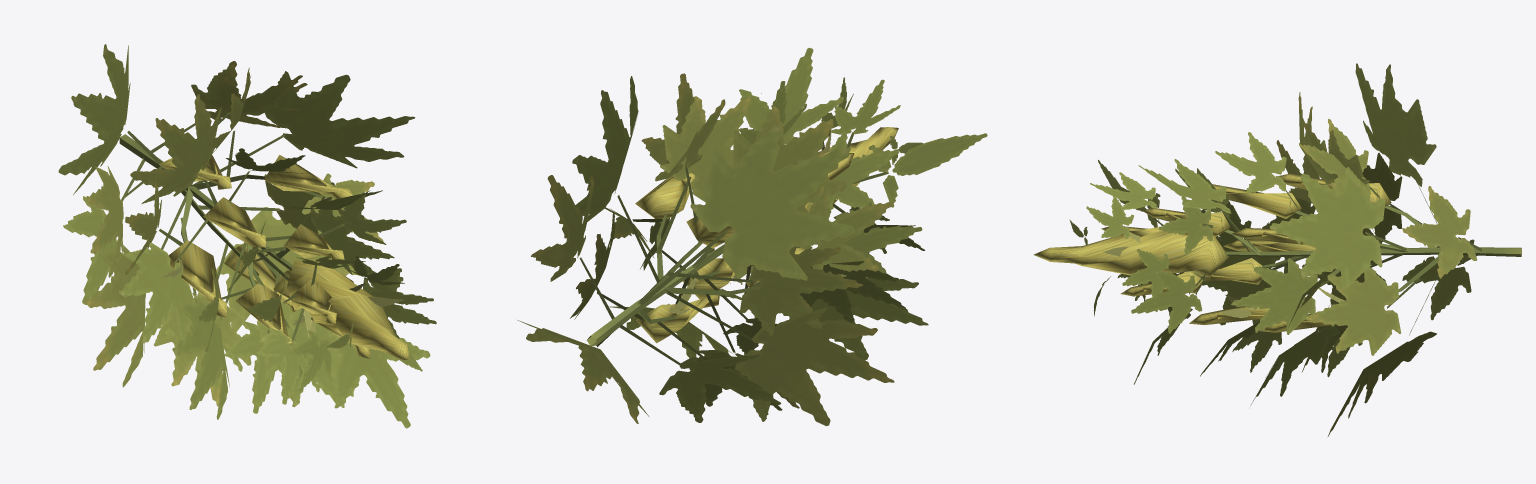
File: p_gold_hybrid_ripe_c1_cards.obj
3 renders of one model, left to right at view 1: azimuth 30°, elevation 25°; view 2: azimuth 150°, elevation 25°; view 3: azimuth 270°, elevation 25°, orthographic. The views are drawn at different scales.
Bounding box in the file's own units: 1.28 × 1.3 × 1.56.
1 material, 1 textured.
